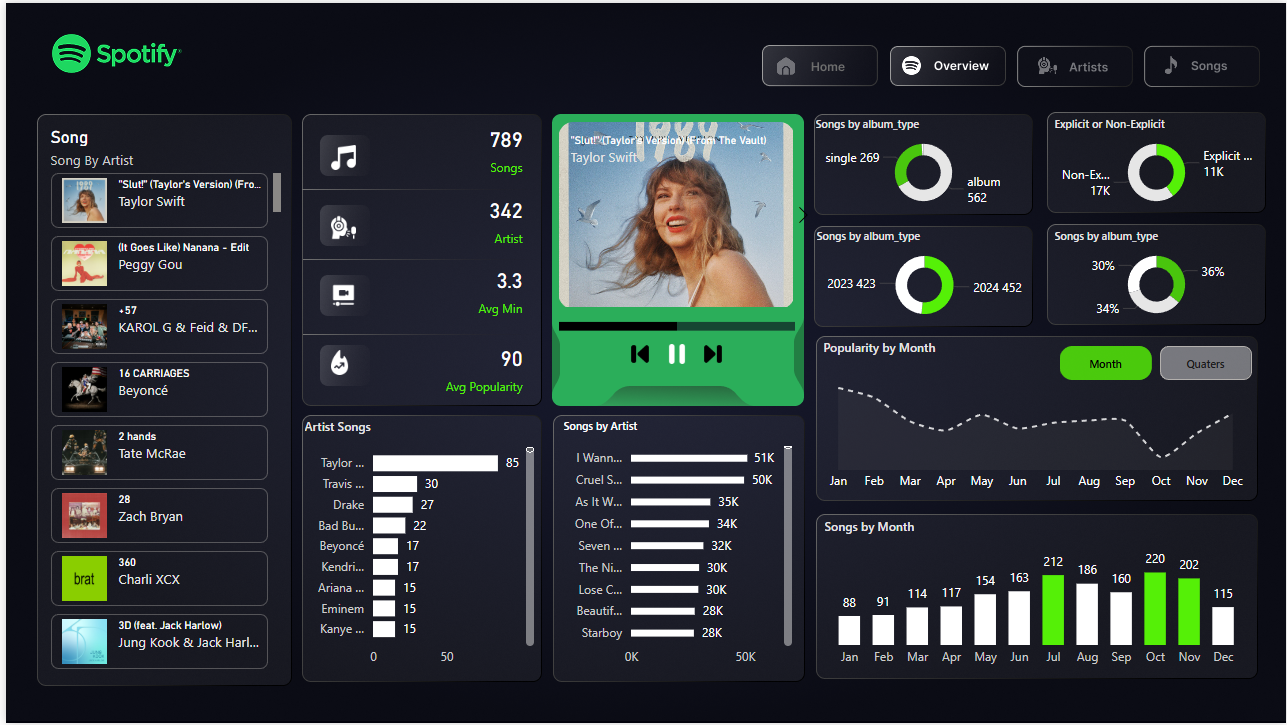

The page's visual inventory and layout, read from the dashboard file:
{"tool":"powerbi","page":{"name":"Overview","canvas":[1280,720],"ordinal":1},"visuals":[{"type":"clusteredBarChart","title":"Artist Songs","fields":{"Category":["Top-50-World.artist"],"Y":["_Measures.Distinct Songs"]},"box":[294.4,414.9,238.9,257.1],"z":0},{"type":"clusteredBarChart","title":"Songs by Artist","fields":{"Category":["Top-50-World.song"],"Y":["Sum(Top-50-World.popularity)"]},"box":[552.5,414.9,238.9,257.1],"z":1000},{"type":"areaChart","title":"Popularity by Month","fields":{"Category":["Top-50-World.Month"],"Y":["_Measures.Avg Popularity"]},"box":[813.4,336.3,433.1,160],"z":2000},{"type":"advancedSlicerVisual","fields":{"Values":["Slicer.Slicer"]},"box":[1049.1,338.2,202.2,44.1],"z":3000},{"type":"donutChart","title":"Songs by album_type","fields":{"Category":["Top-50-World.album_type"],"Y":["_Measures.Distinct Songs"]},"box":[805.3,113.1,225.1,98.1],"z":4000},{"type":"donutChart","title":"Explicit or Non-Explicit","fields":{"Y":["_Measures.Explicit Songs","_Measures.Non-Explicit Songs"]},"box":[1044.3,113.1,212.3,98.1],"z":5000},{"type":"donutChart","title":"Songs by album_type","fields":{"Category":["Top-50-World.Year"],"Y":["_Measures.Distinct Songs"]},"box":[805.7,225.5,225.1,98.1],"z":6000},{"type":"donutChart","title":"Songs by album_type","fields":{"Category":["Top-50-World.album_type"],"Y":["_Measures.Avg Popularity"]},"box":[1044.3,225.1,212.3,98.1],"z":7000},{"type":"clusteredColumnChart","title":"Songs by Month","fields":{"Category":["Top-50-World.Month"],"Y":["_Measures.Distinct Songs"]},"box":[813.9,515.2,433.1,156.8],"z":8000},{"type":"cardVisual","fields":{"Data":["_Measures.Distinct Songs"]},"box":[413.4,112.8,120.1,70],"z":9000},{"type":"cardVisual","fields":{"Data":["Count(Top-50-World.artist)"]},"box":[413.4,183.8,120.1,70],"z":10000},{"type":"cardVisual","fields":{"Data":["_Measures.Avg Duration Minutes"]},"box":[413.4,253.7,120.1,70],"z":11000},{"type":"cardVisual","fields":{"Data":["_Measures.Avg Popularity"]},"box":[413.4,332,120.1,70],"z":12000},{"type":"image","box":[320.4,342.4,35,35],"z":13000},{"type":"image","box":[320.4,137.1,35,35],"z":14000},{"type":"image","box":[320.4,275.3,35,35],"z":15000},{"type":"image","box":[320,207.2,35,35],"z":16000},{"type":"advancedSlicerVisual","title":"Song ","fields":{"Values":["Top-50-World.song"]},"box":[39.9,123.5,240.2,548.6],"z":17000},{"type":"advancedSlicerVisual","title":"Song ","fields":{"Values":["Top-50-World.song"]},"box":[526.9,113.1,286.5,197.4],"z":18000},{"type":"hundredPercentStackedBarChart","fields":{"Y":["_Measures.Avg Popularity","Avg(Top-50-World.popularity)"]},"box":[548,274,246.2,92.9],"z":19000},{"type":"image","box":[686.9,336.3,40,30],"z":20000},{"type":"image","box":[650.5,336.3,40,30],"z":21000},{"type":"image","box":[614.1,336.3,40,30],"z":22000},{"type":"shape","box":[552.8,114,238.6,274],"z":23000},{"type":"actionButton","box":[758.5,45.3,111.9,37],"z":24000},{"type":"actionButton","box":[885,45.3,111.9,37],"z":25000},{"type":"actionButton","box":[1011.4,45.3,111.9,37],"z":26000},{"type":"actionButton","box":[1139.8,45.3,111.9,37],"z":27000}]}

Visuals, with their boxes in screenshot pixels (x1, y1, x2, y2), scaled from the page's 1280x720 canvas onto the 1287x725 screenshot:
"Artist Songs" clusteredBarChart: <region>296, 418, 536, 677</region>
"Songs by Artist" clusteredBarChart: <region>556, 418, 796, 677</region>
"Popularity by Month" areaChart: <region>818, 339, 1253, 500</region>
advancedSlicerVisual - Slicer.Slicer: <region>1055, 341, 1258, 385</region>
"Songs by album_type" donutChart: <region>810, 114, 1036, 213</region>
"Explicit or Non-Explicit" donutChart: <region>1050, 114, 1263, 213</region>
"Songs by album_type" donutChart: <region>810, 227, 1036, 326</region>
"Songs by album_type" donutChart: <region>1050, 227, 1263, 325</region>
"Songs by Month" clusteredColumnChart: <region>818, 519, 1254, 677</region>
cardVisual - _Measures.Distinct Songs: <region>416, 114, 536, 184</region>
cardVisual - Count(Top-50-World.artist): <region>416, 185, 536, 256</region>
cardVisual - _Measures.Avg Duration Minutes: <region>416, 255, 536, 326</region>
cardVisual - _Measures.Avg Popularity: <region>416, 334, 536, 405</region>
image: <region>322, 345, 357, 380</region>
image: <region>322, 138, 357, 173</region>
image: <region>322, 277, 357, 312</region>
image: <region>322, 209, 357, 244</region>
"Song " advancedSlicerVisual: <region>40, 124, 282, 677</region>
"Song " advancedSlicerVisual: <region>530, 114, 818, 313</region>
hundredPercentStackedBarChart - _Measures.Avg Popularity x Avg(Top-50-World.popularity): <region>551, 276, 799, 369</region>
image: <region>691, 339, 731, 369</region>
image: <region>654, 339, 694, 369</region>
image: <region>617, 339, 658, 369</region>
shape: <region>556, 115, 796, 391</region>
actionButton: <region>763, 46, 875, 83</region>
actionButton: <region>890, 46, 1002, 83</region>
actionButton: <region>1017, 46, 1129, 83</region>
actionButton: <region>1146, 46, 1259, 83</region>
